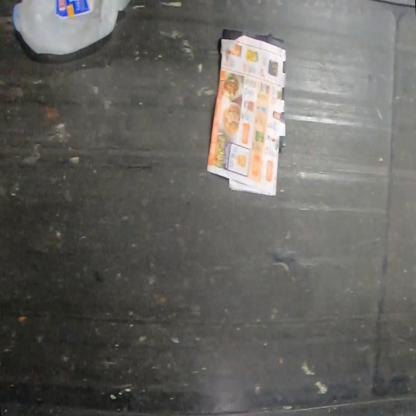rigid_plastic: (12, 0, 131, 58)
